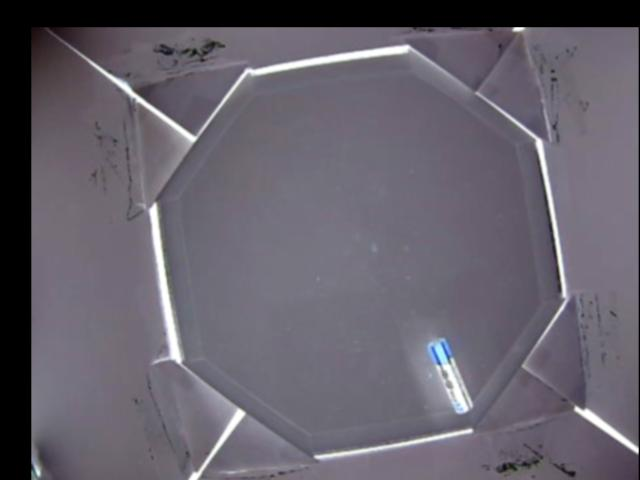Battery: (427, 339, 472, 416)
